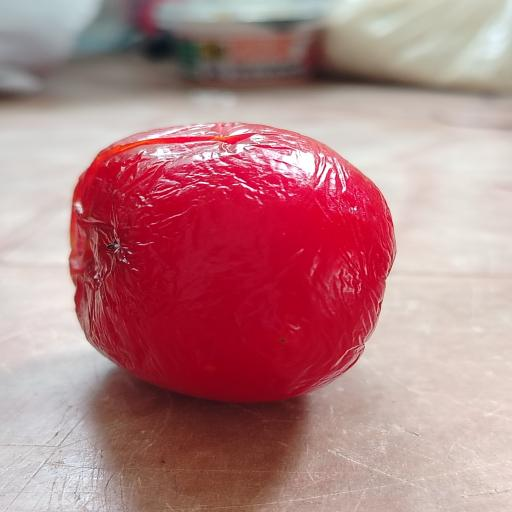spoiled: (70, 123, 395, 402)
